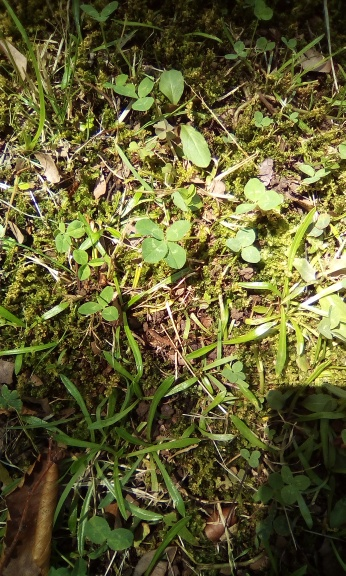4leaf: (134, 218, 189, 270)
